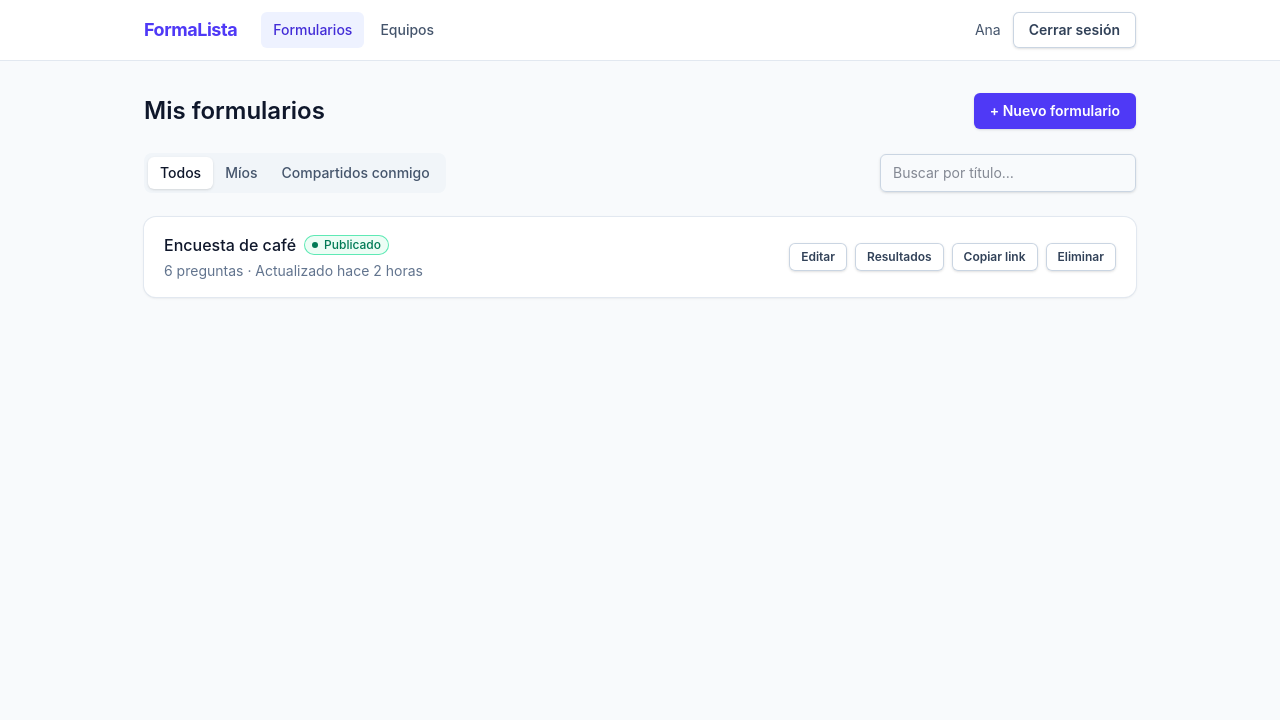
it: Mis formularios: lista › los enlaces llevan al editor y a los resultados del formulario
This screenshot has width=1280, height=720.
Click the link "Editar": (818, 257) [789, 243, 847, 271]
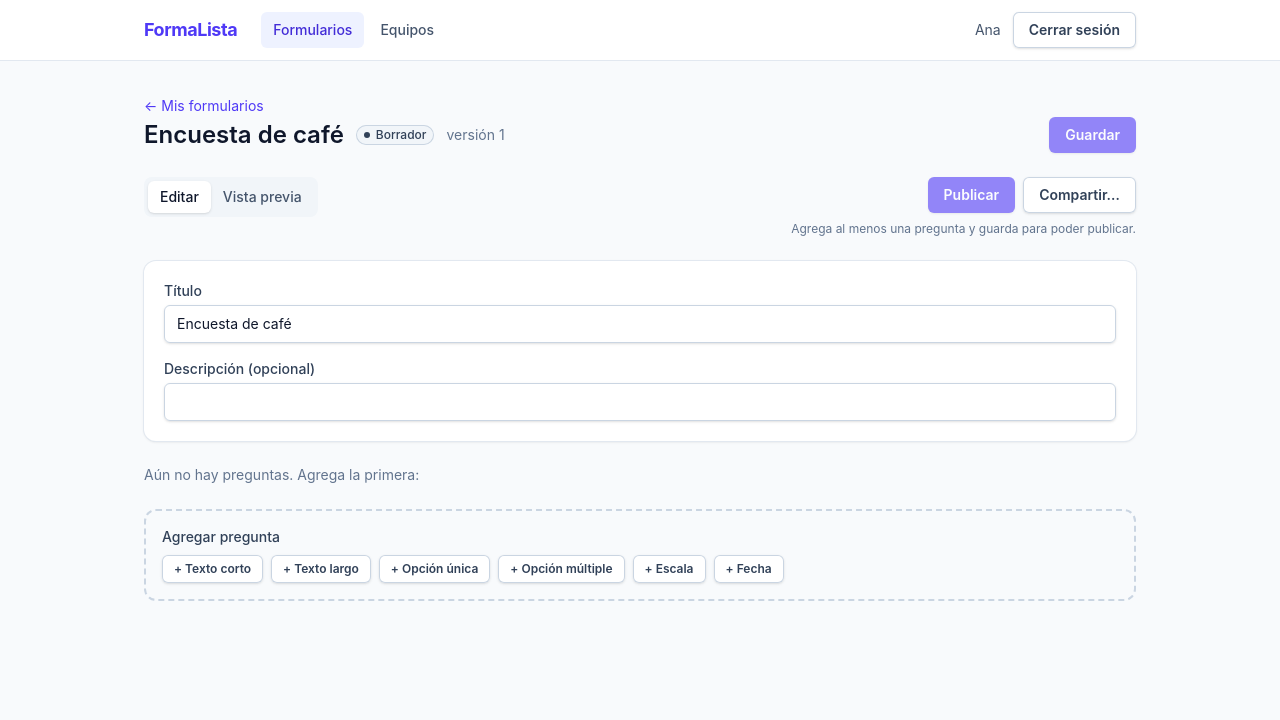
Now the field labelled "Título" holds "Encuesta de café", box [164, 305, 1116, 343]
